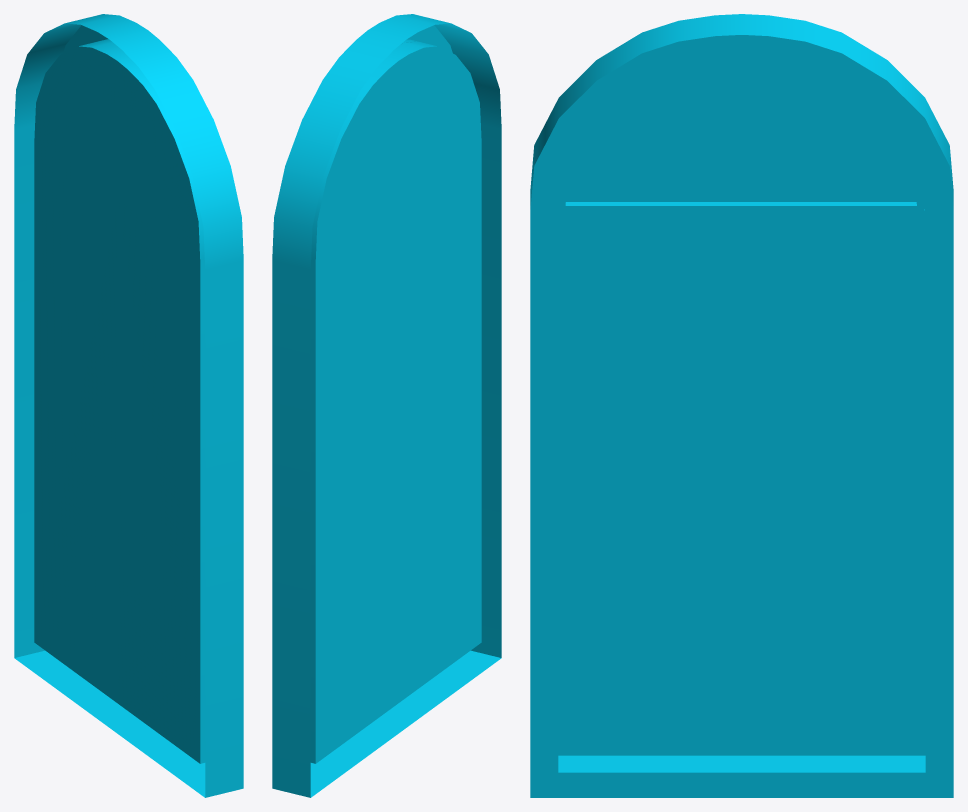
Rendered from Window01.FBX.
3 views of the same model, side by side, from view 1: azimuth 30°, elevation 25°; view 2: azimuth 150°, elevation 25°; view 3: azimuth 270°, elevation 25° (orthographic). The views are drawn at different scales.
Visible parts, largest first — view 1: Box117; view 2: Box117; view 3: Box117.
Part boxes in pixels (x1=…): Box117: x1=14, y1=14, x2=243, y2=797; Box117: x1=272, y1=14, x2=501, y2=797; Box117: x1=530, y1=14, x2=953, y2=797.
Bounding box in the file's own units: 42.41 × 724 × 364.
